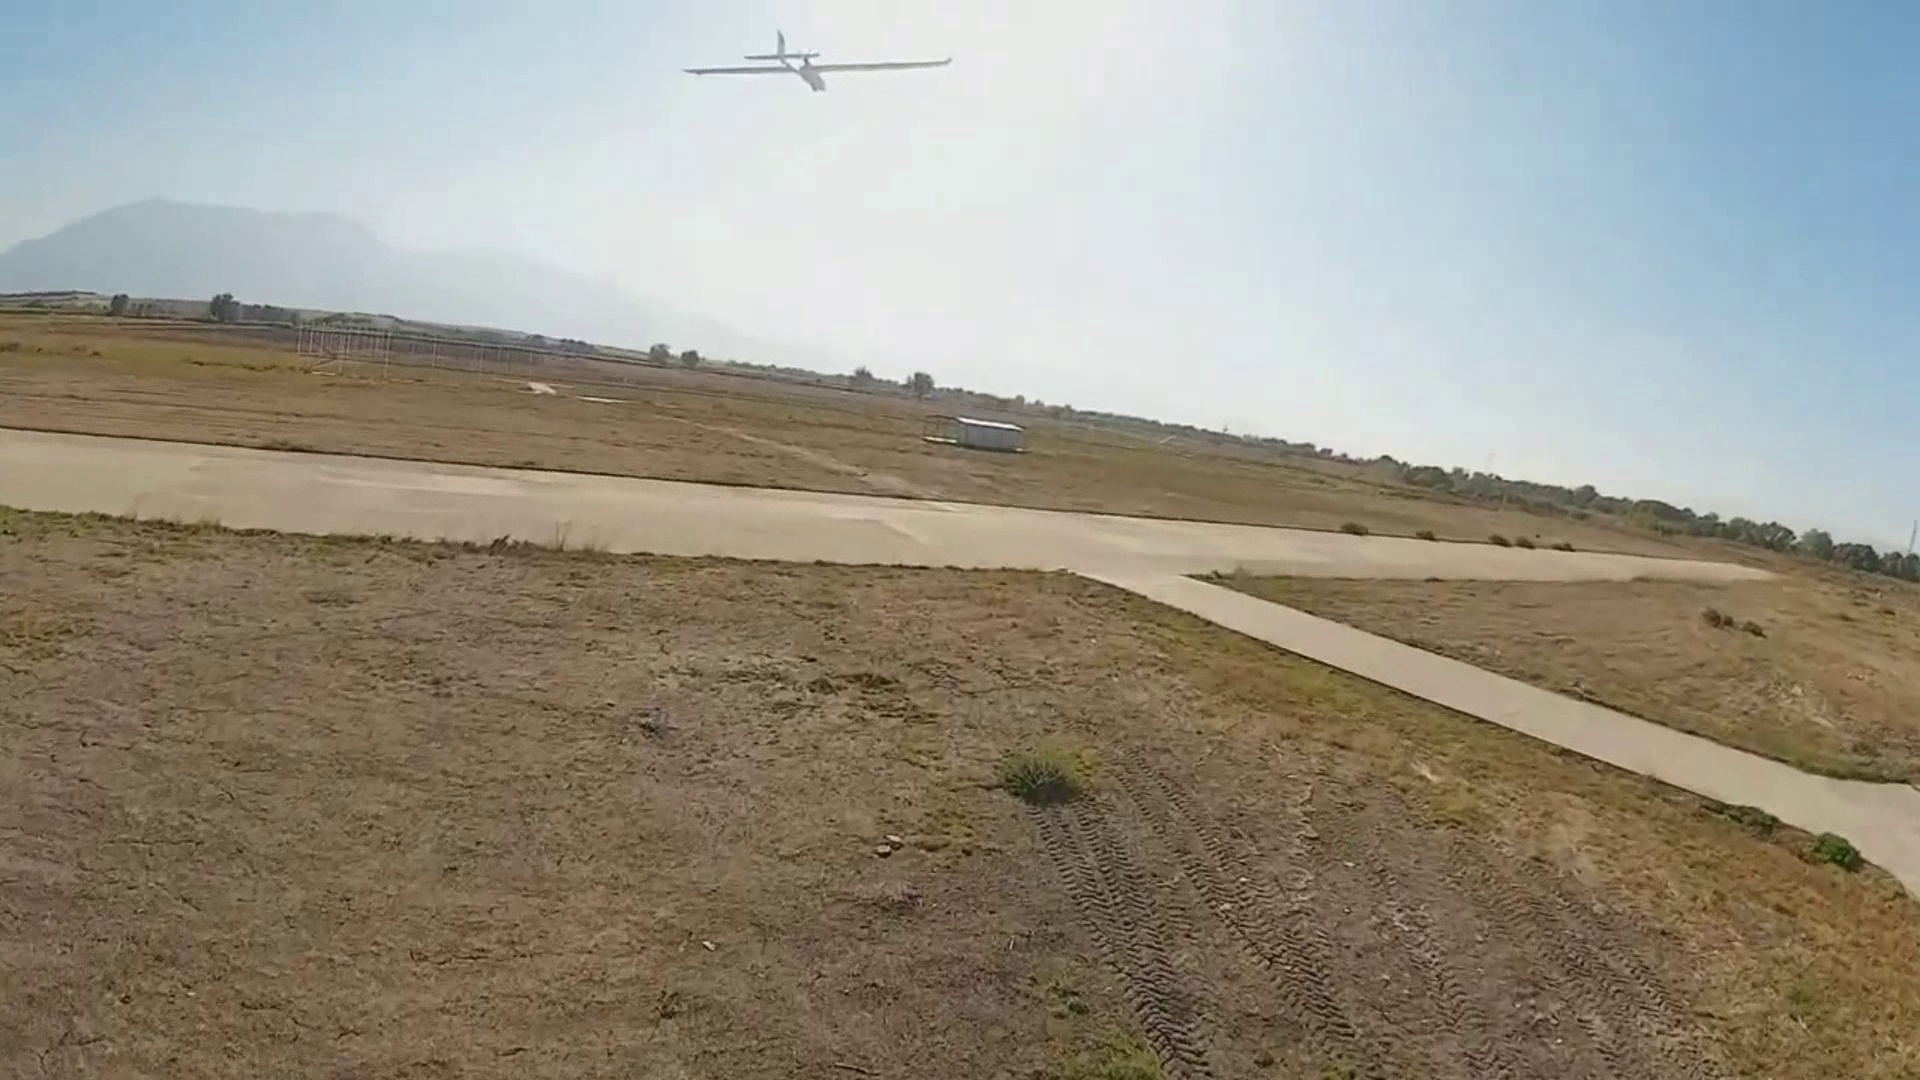airplane: (680, 22, 953, 90)
